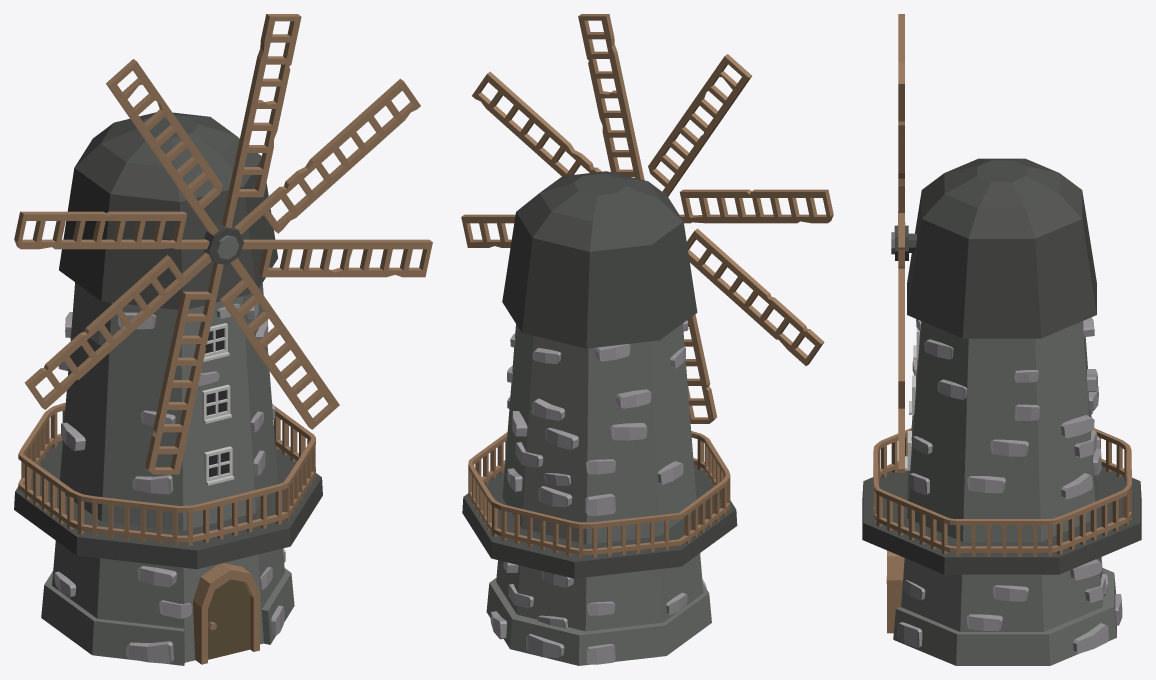
Rendered from quaternius-farm-buildings-towerwindmill.glb.
3 renders of one model, left to right at view 1: azimuth 30°, elevation 25°; view 2: azimuth 150°, elevation 25°; view 3: azimuth 270°, elevation 25°, orthographic. The views are drawn at different scales.
Parts seen in each view (by area): view 1: TowerWindmill; view 2: TowerWindmill; view 3: TowerWindmill.
Boxes of the visible parts, x1=… form: TowerWindmill: x1=14, y1=14, x2=432, y2=665; TowerWindmill: x1=461, y1=14, x2=833, y2=665; TowerWindmill: x1=862, y1=14, x2=1141, y2=665.
Bounding box in the file's own units: 7.92 × 11.41 × 4.99.
Materials: 1 (1 with a texture image).
